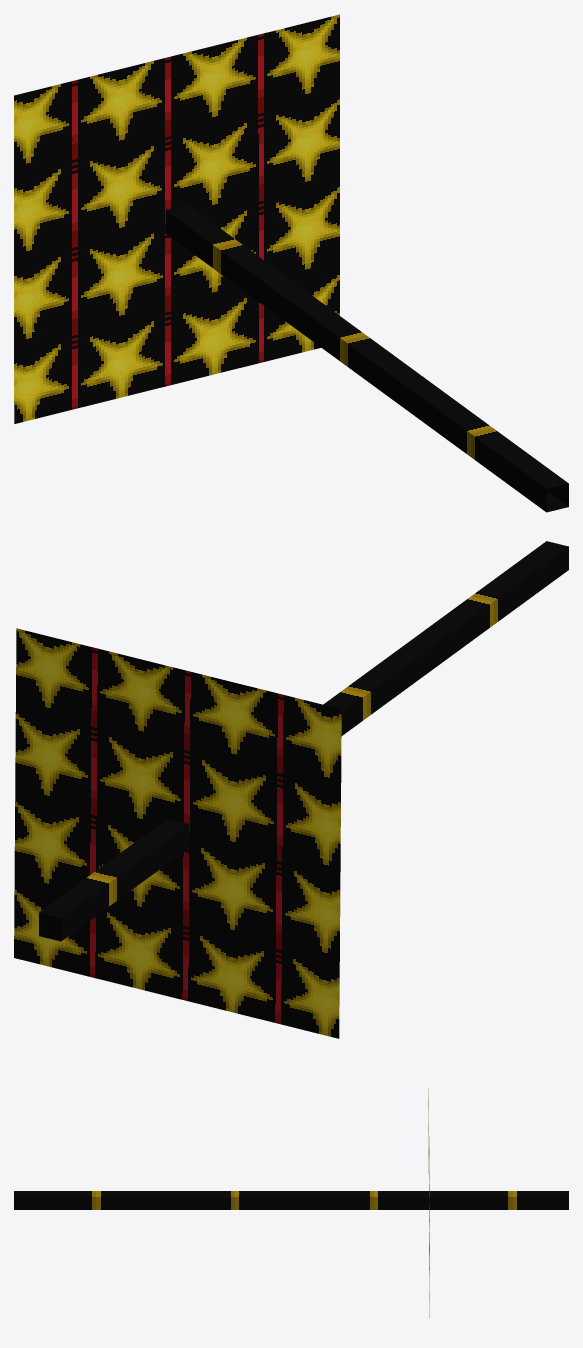
File: 00_00_stick.gltf
The picture shows the model from 3 angles, top to bottom: view 1: azimuth 30°, elevation 25°; view 2: azimuth 150°, elevation 25°; view 3: azimuth 270°, elevation 25°; orthographic projection. The views are drawn at different scales.
Parts seen in each view (by area): view 1: 00_00_stick; view 2: 00_00_stick; view 3: 00_00_stick.
Boxes of the visible parts, x1=… form: 00_00_stick: x1=14, y1=14, x2=568, y2=512; 00_00_stick: x1=14, y1=541, x2=568, y2=1038; 00_00_stick: x1=14, y1=1088, x2=568, y2=1317.
Size of the model in its own units: 0.3633 by 0.3516 by 0.9783.
2 materials, 2 textured.
